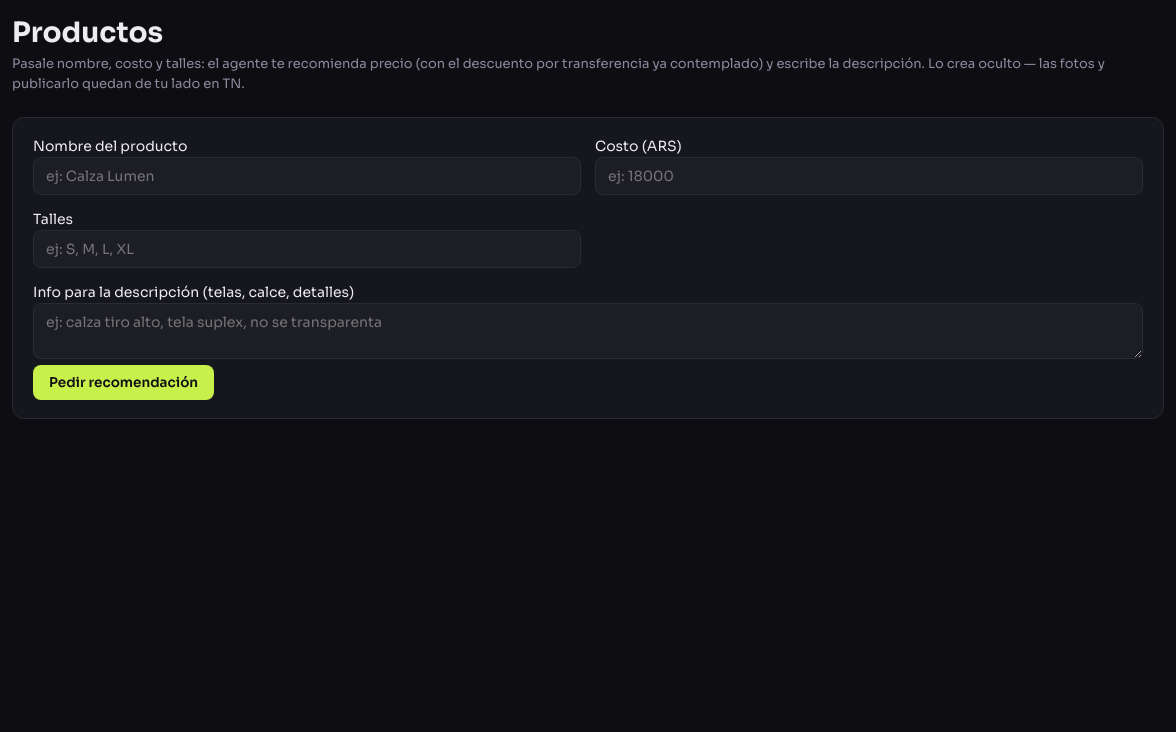
Test: Productos › manda el pedido estructurado al chat y muestra la recomendación
Type "Calza Lumen" into the field labelled "Nombre del producto" at (307, 176), box [33,157,581,195]
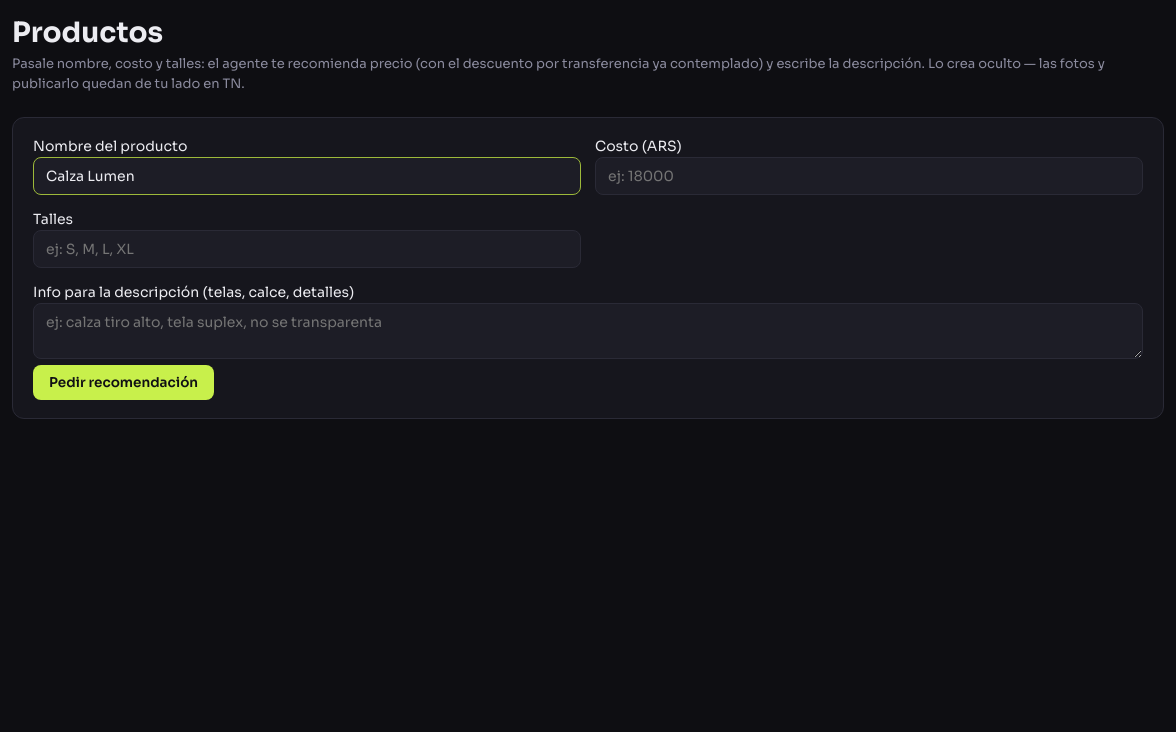
Type "18000" into the number field labelled "Costo (ARS)" at (869, 176), box [595,157,1143,195]
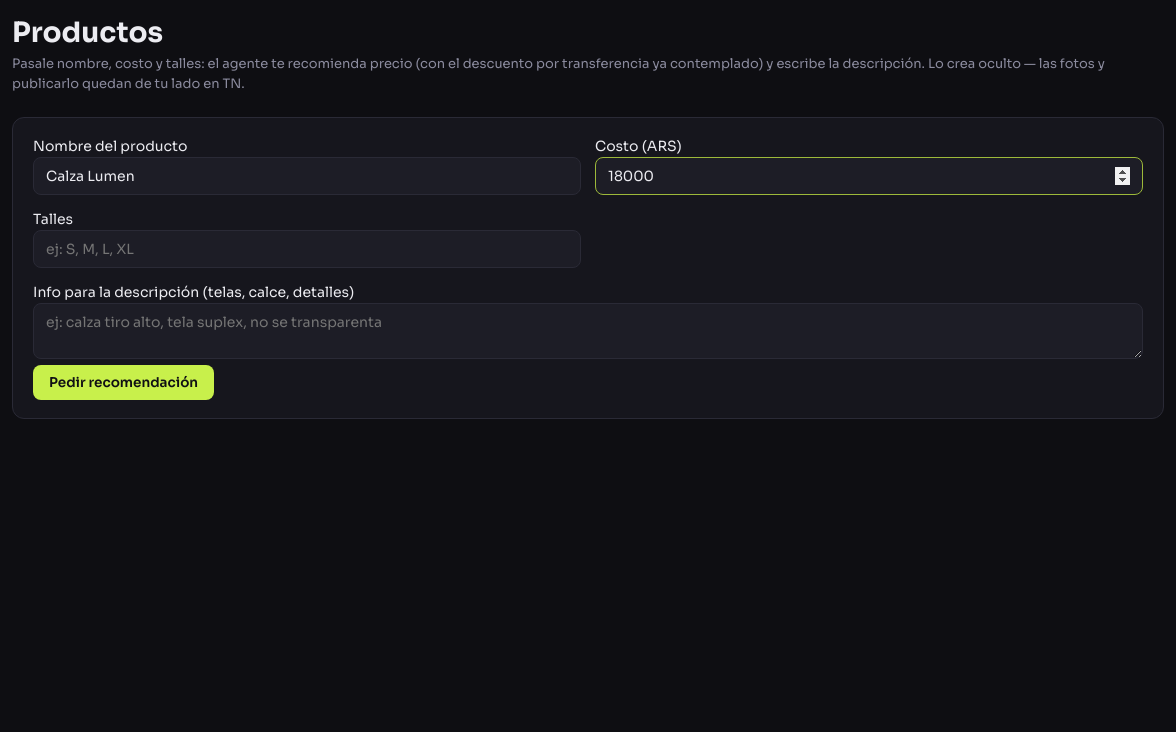
Type "S, M, L" into the field labelled "Talles" at (307, 249), box [33,230,581,268]
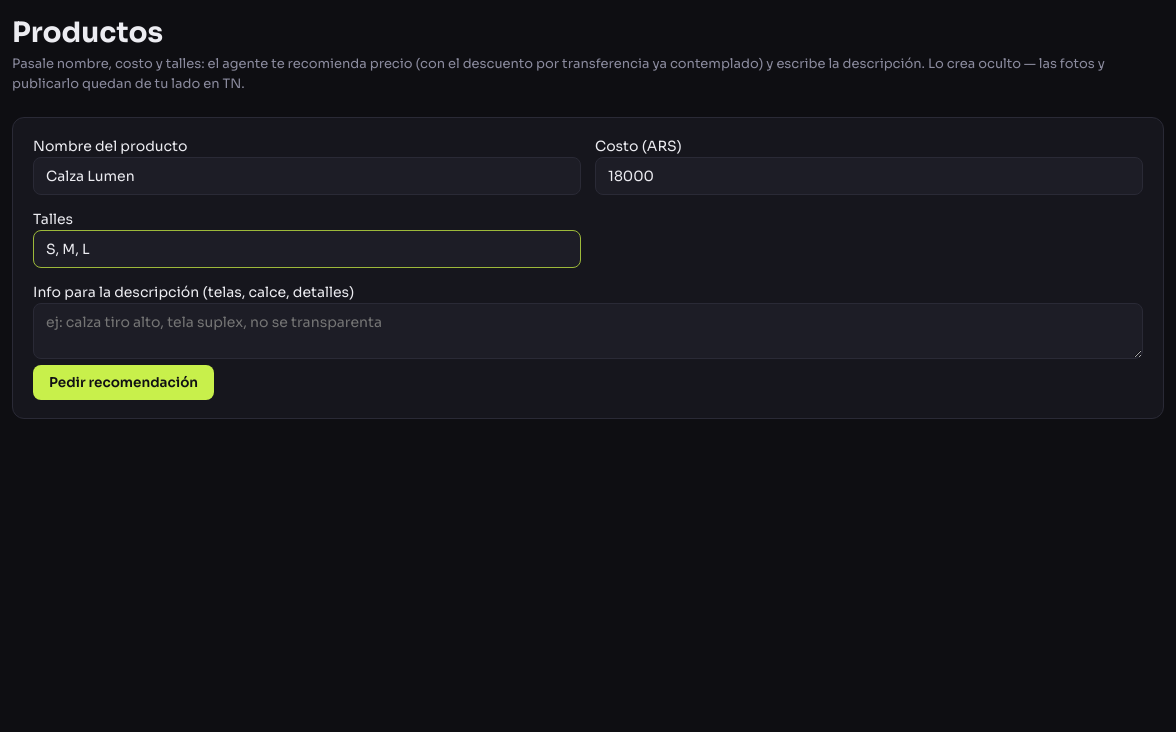
Type "calza tiro alto" into the text box labelled "Info para la descripción (telas, calce, detalles)" at (588, 331), box [33,303,1143,359]
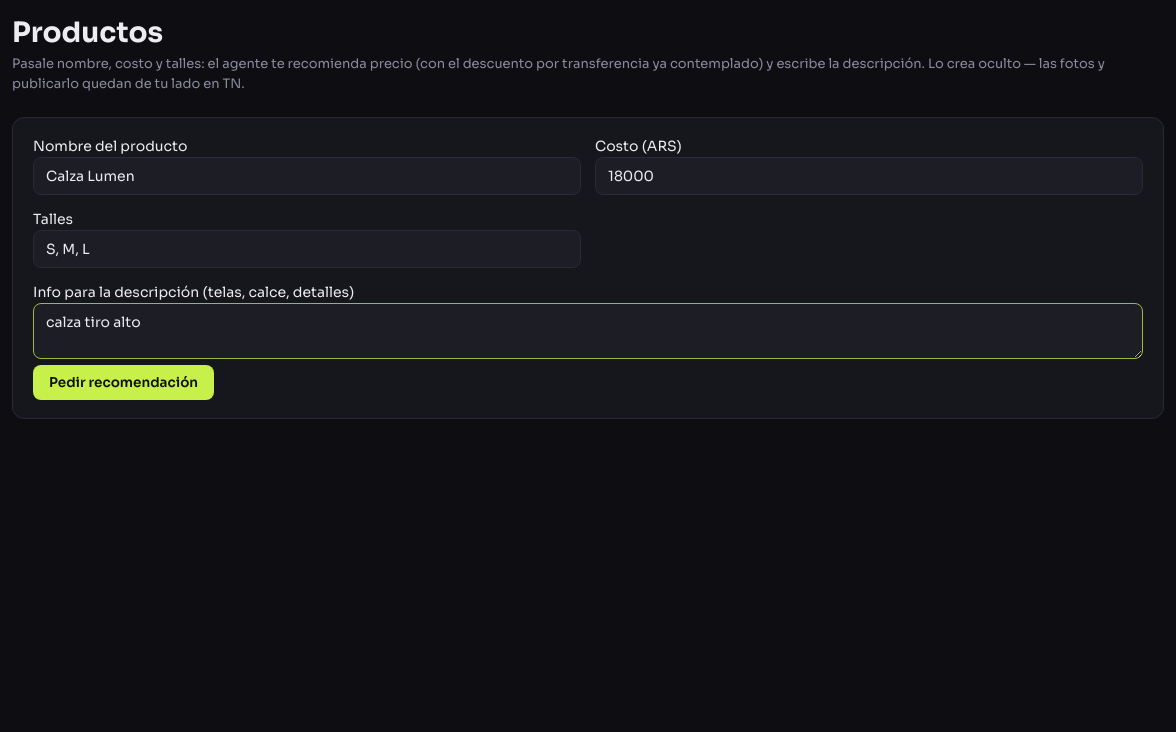
Click the button "Pedir recomendación" at (124, 382), box [33,365,214,400]
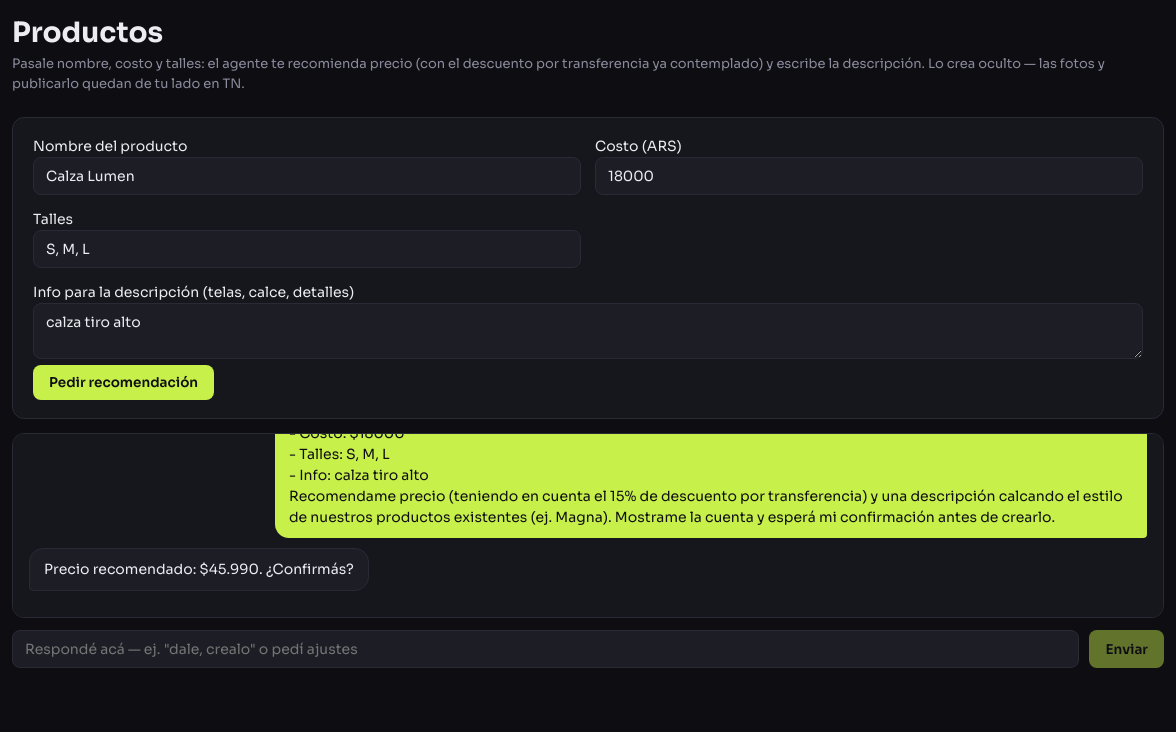
Expected: the text "Precio recomendado: $45.990. ¿Confirmás?" is shown, [29,548,369,591]
